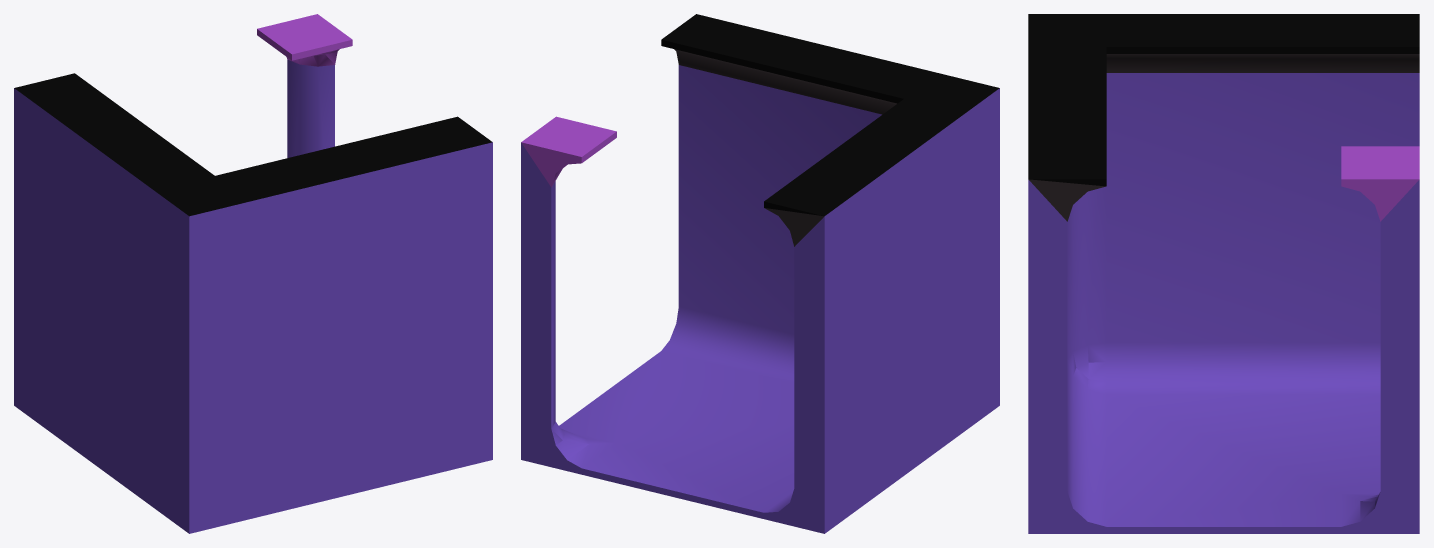
Rendered from Tileset_5.fbx.
3 renders of one model, left to right at view 1: azimuth 30°, elevation 25°; view 2: azimuth 150°, elevation 25°; view 3: azimuth 270°, elevation 25°, orthographic. The views are drawn at different scales.
Parts seen in each view (by area): view 1: Tileset_5; view 2: Tileset_5; view 3: Tileset_5.
Boxes of the visible parts, <box> form: Tileset_5: <box>14,14,492,533</box>; Tileset_5: <box>521,14,999,533</box>; Tileset_5: <box>1028,14,1419,533</box>.
Bounding box in the file's own units: 100 × 100 × 100.
